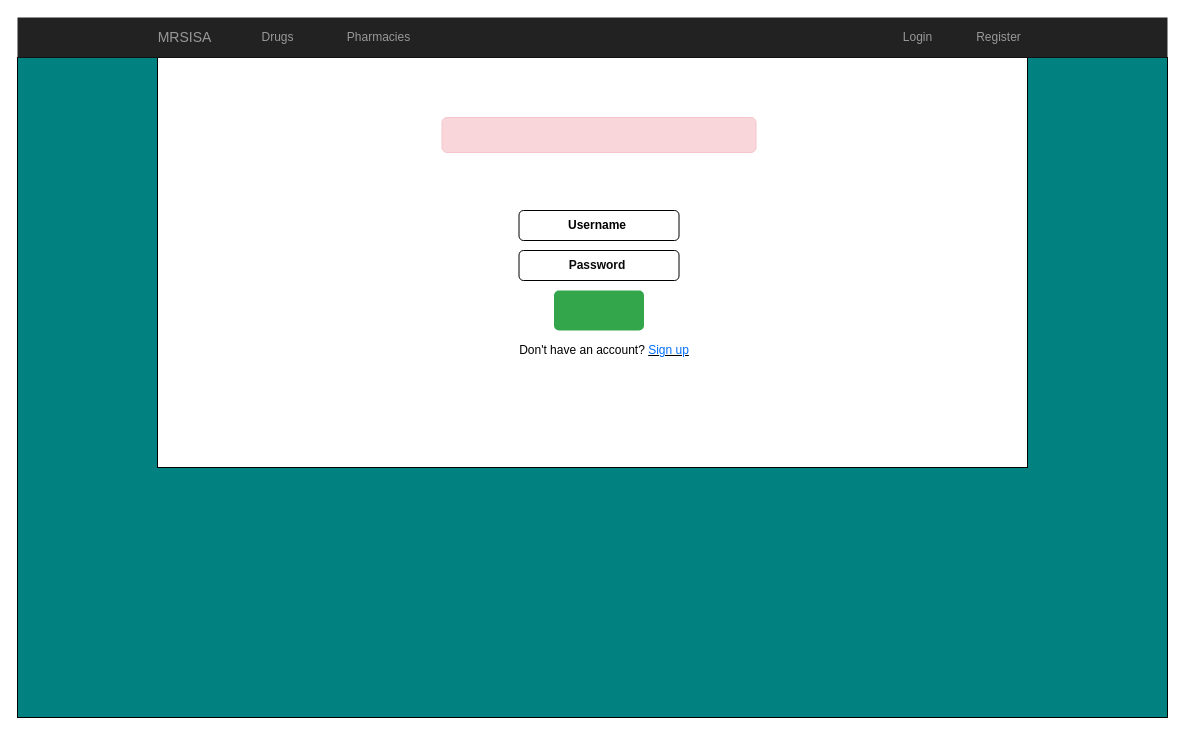
Some shapes in this 1185 by 735 pixel diagram are drawn without their labels. Here are the shapes that lost their labels. From the top down, the centre of each, then its label:
At point 598,134: "Error message if login failed.".
At point 599,310: "Log in".
